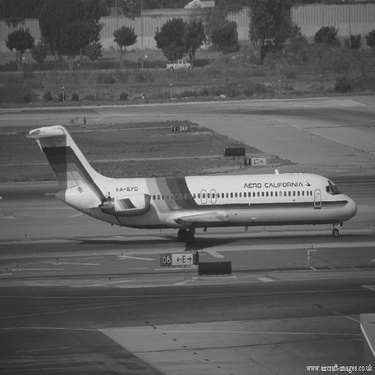airplane: (22, 113, 363, 250)
